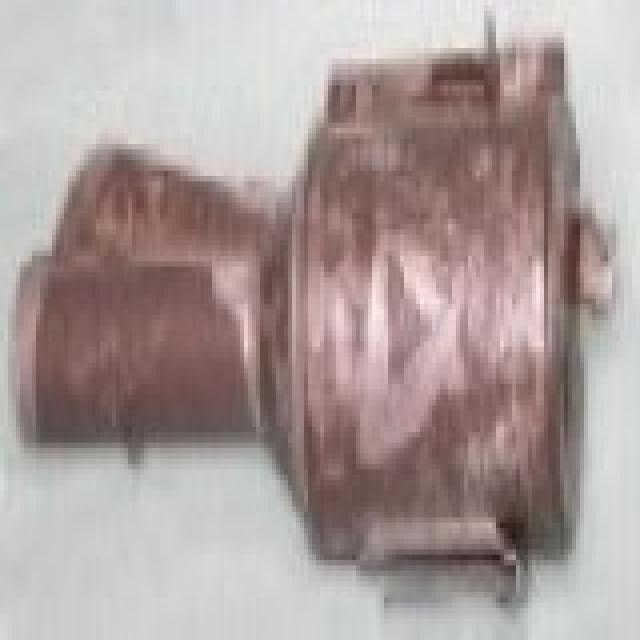Gun: (15, 66, 617, 600)
